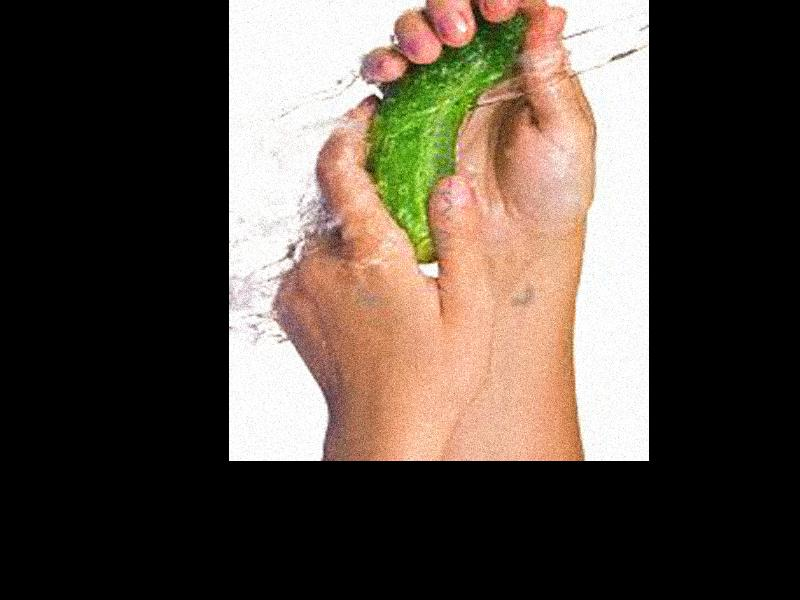Cucumber: (364, 11, 527, 265)
